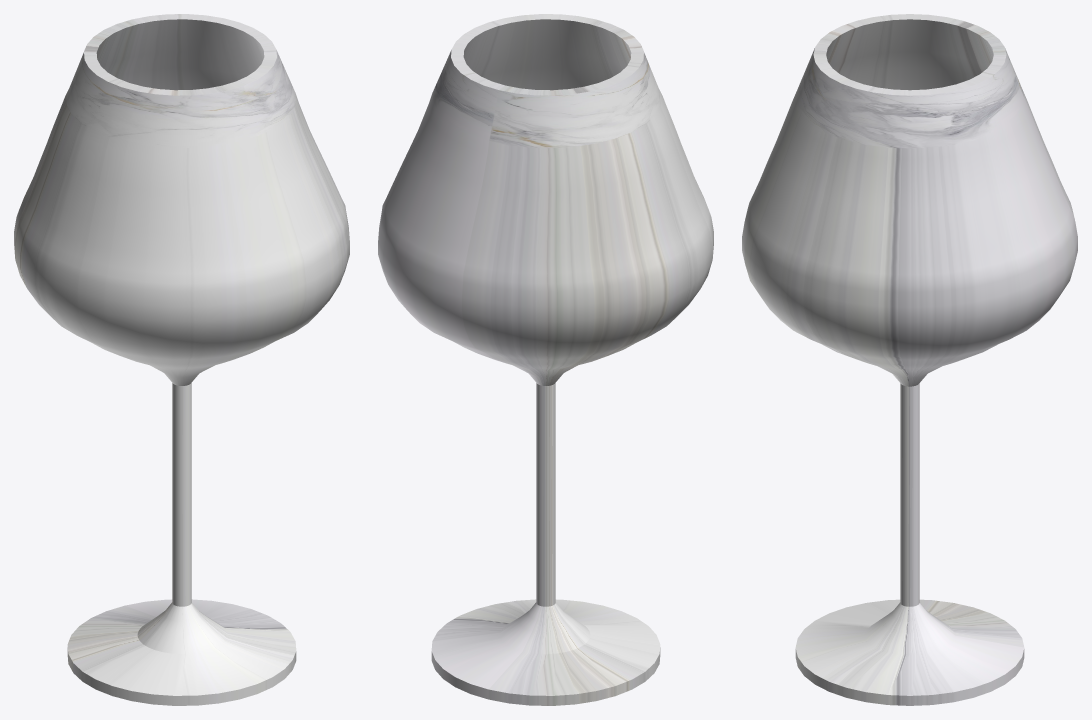
Rendered from wine-glass.fbx.
The picture shows the model from 3 angles, left to right: view 1: azimuth 30°, elevation 25°; view 2: azimuth 150°, elevation 25°; view 3: azimuth 270°, elevation 25°; orthographic projection.
Parts seen in each view (by area): view 1: Cylinder; view 2: Cylinder; view 3: Cylinder.
Part boxes in pixels (x1,y1,x2,y2): Cylinder: (14,14,349,705); Cylinder: (378,14,713,705); Cylinder: (742,14,1077,705).
Bounding box in the file's own units: 150 × 296 × 150.
1 material, 1 textured.
